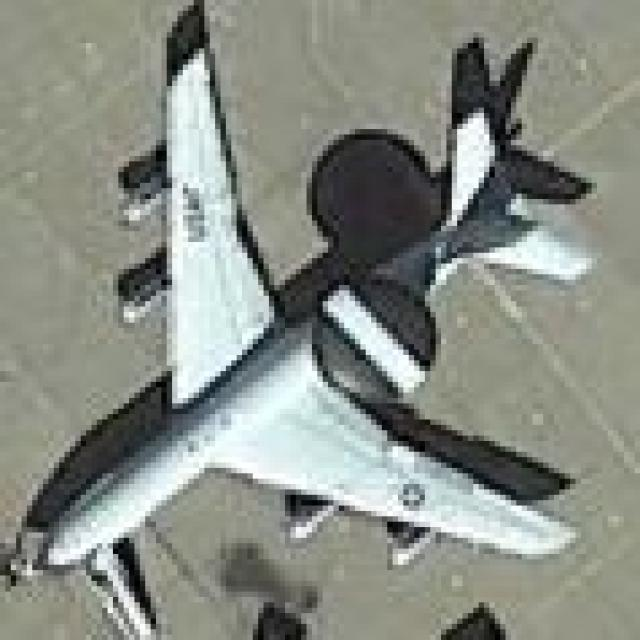E-3_TopDown: (5, 0, 597, 635)
